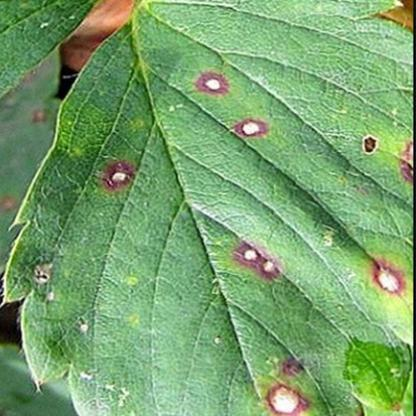Strawberry_Leaf_Spot: (0, 0, 414, 416), (0, 43, 65, 274)
